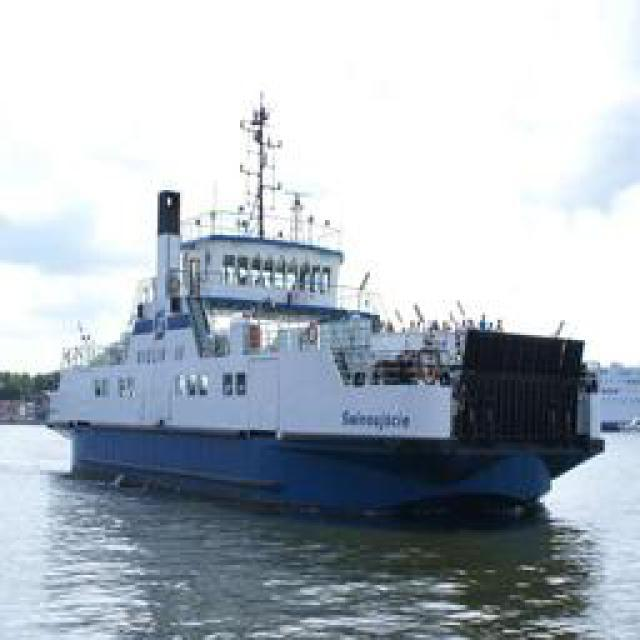Ship: (46, 135, 584, 513)
